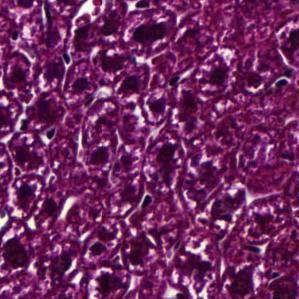inflammation: (207, 179, 254, 226), (86, 266, 127, 299), (68, 11, 98, 52), (142, 84, 173, 123)
